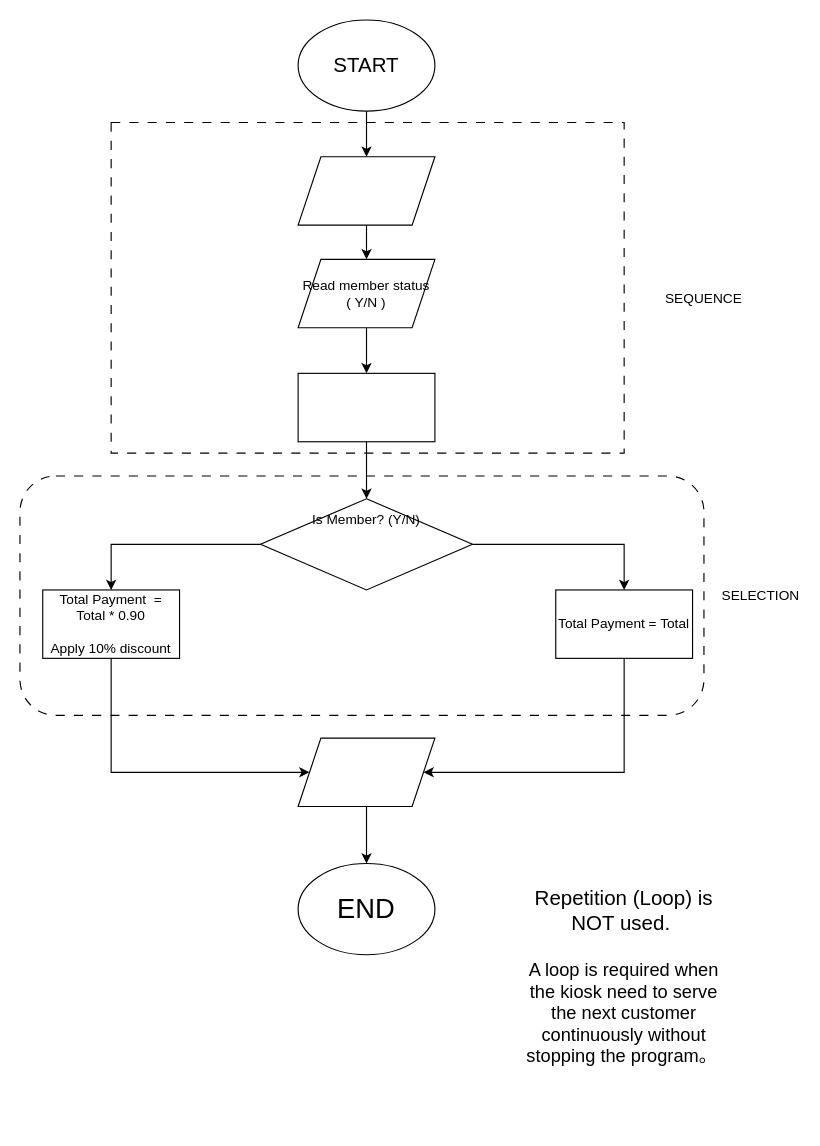
The diagram is 820 pixels wide and 1146 high, and some of its shapes have lost their labels. Here are the shapes that lost their labels. From the top down, the box of each, then its label:
(297, 156, 435, 225): Read quantity
(297, 372, 435, 442): Total = Quantity * 4.50
(297, 737, 435, 807): Display pay
